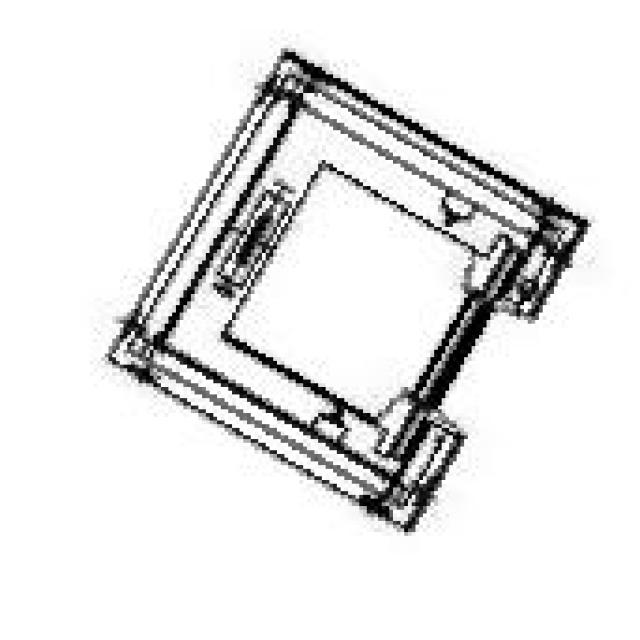lift: (101, 45, 588, 532)
